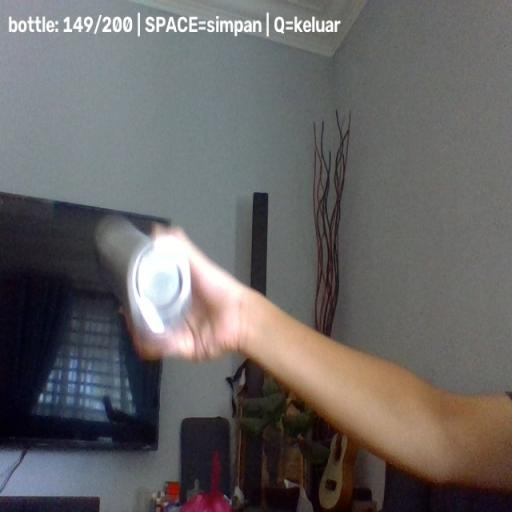Bottle: (96, 214, 192, 337)
